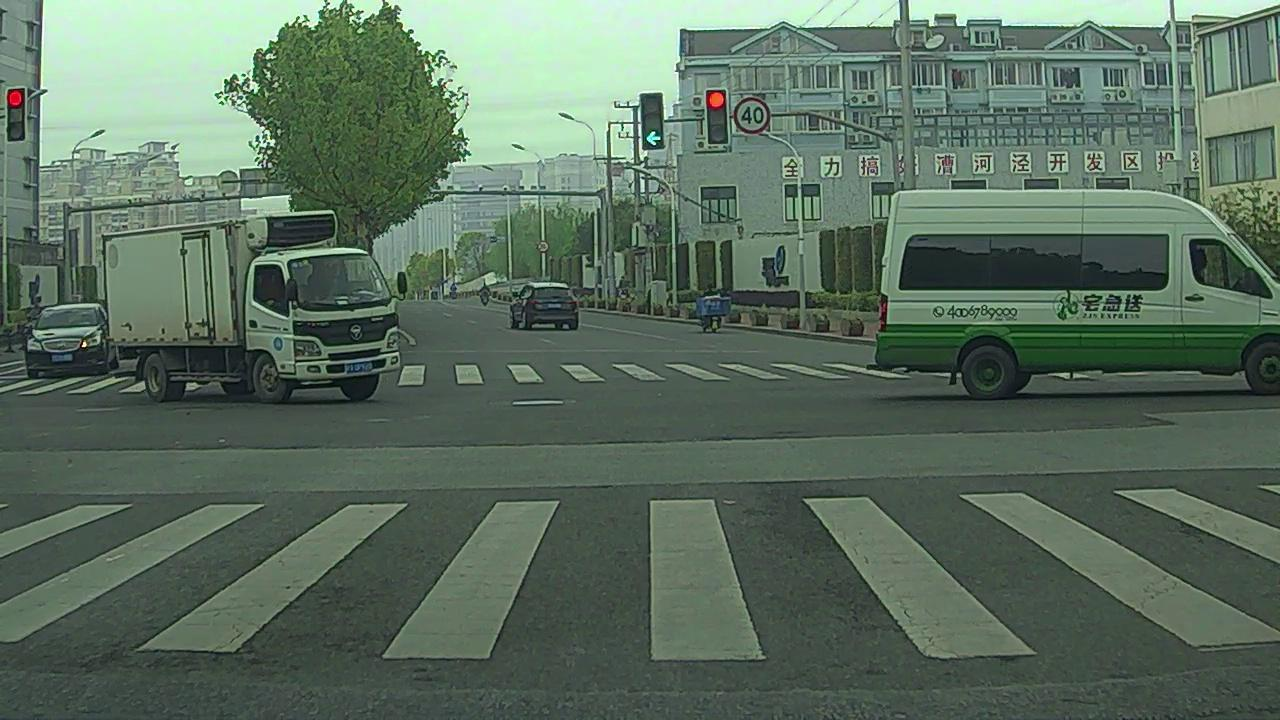traffic_light: (705, 86, 730, 147), (643, 93, 666, 148), (7, 86, 25, 138)
